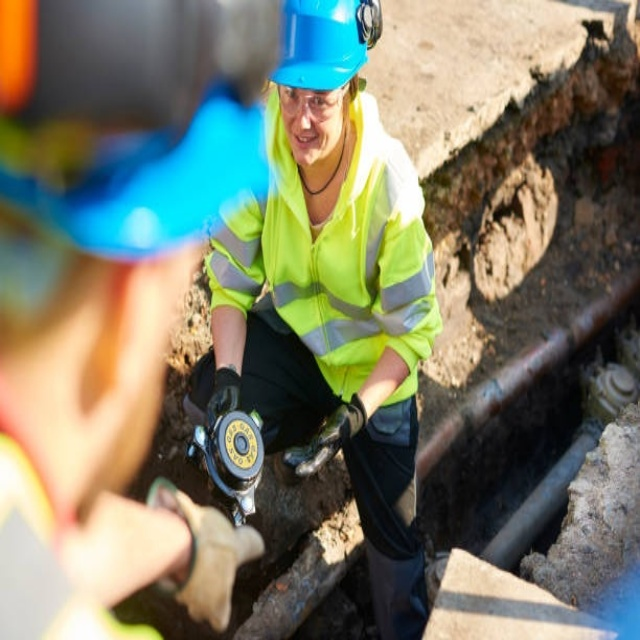Gafas: (277, 80, 348, 115)
Guantes: (149, 478, 266, 633), (284, 395, 365, 478), (207, 366, 243, 436)
Sin_mascara: (288, 125, 319, 163)
